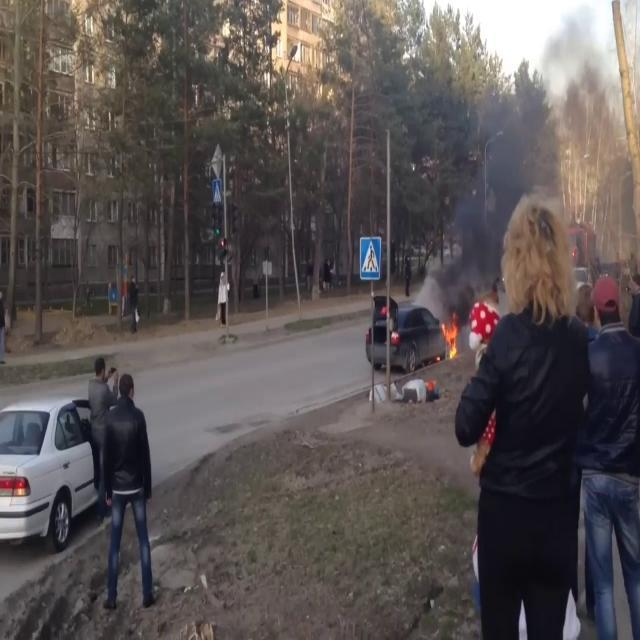Fire: (440, 312, 460, 362)
Smoke: (427, 78, 533, 304)
